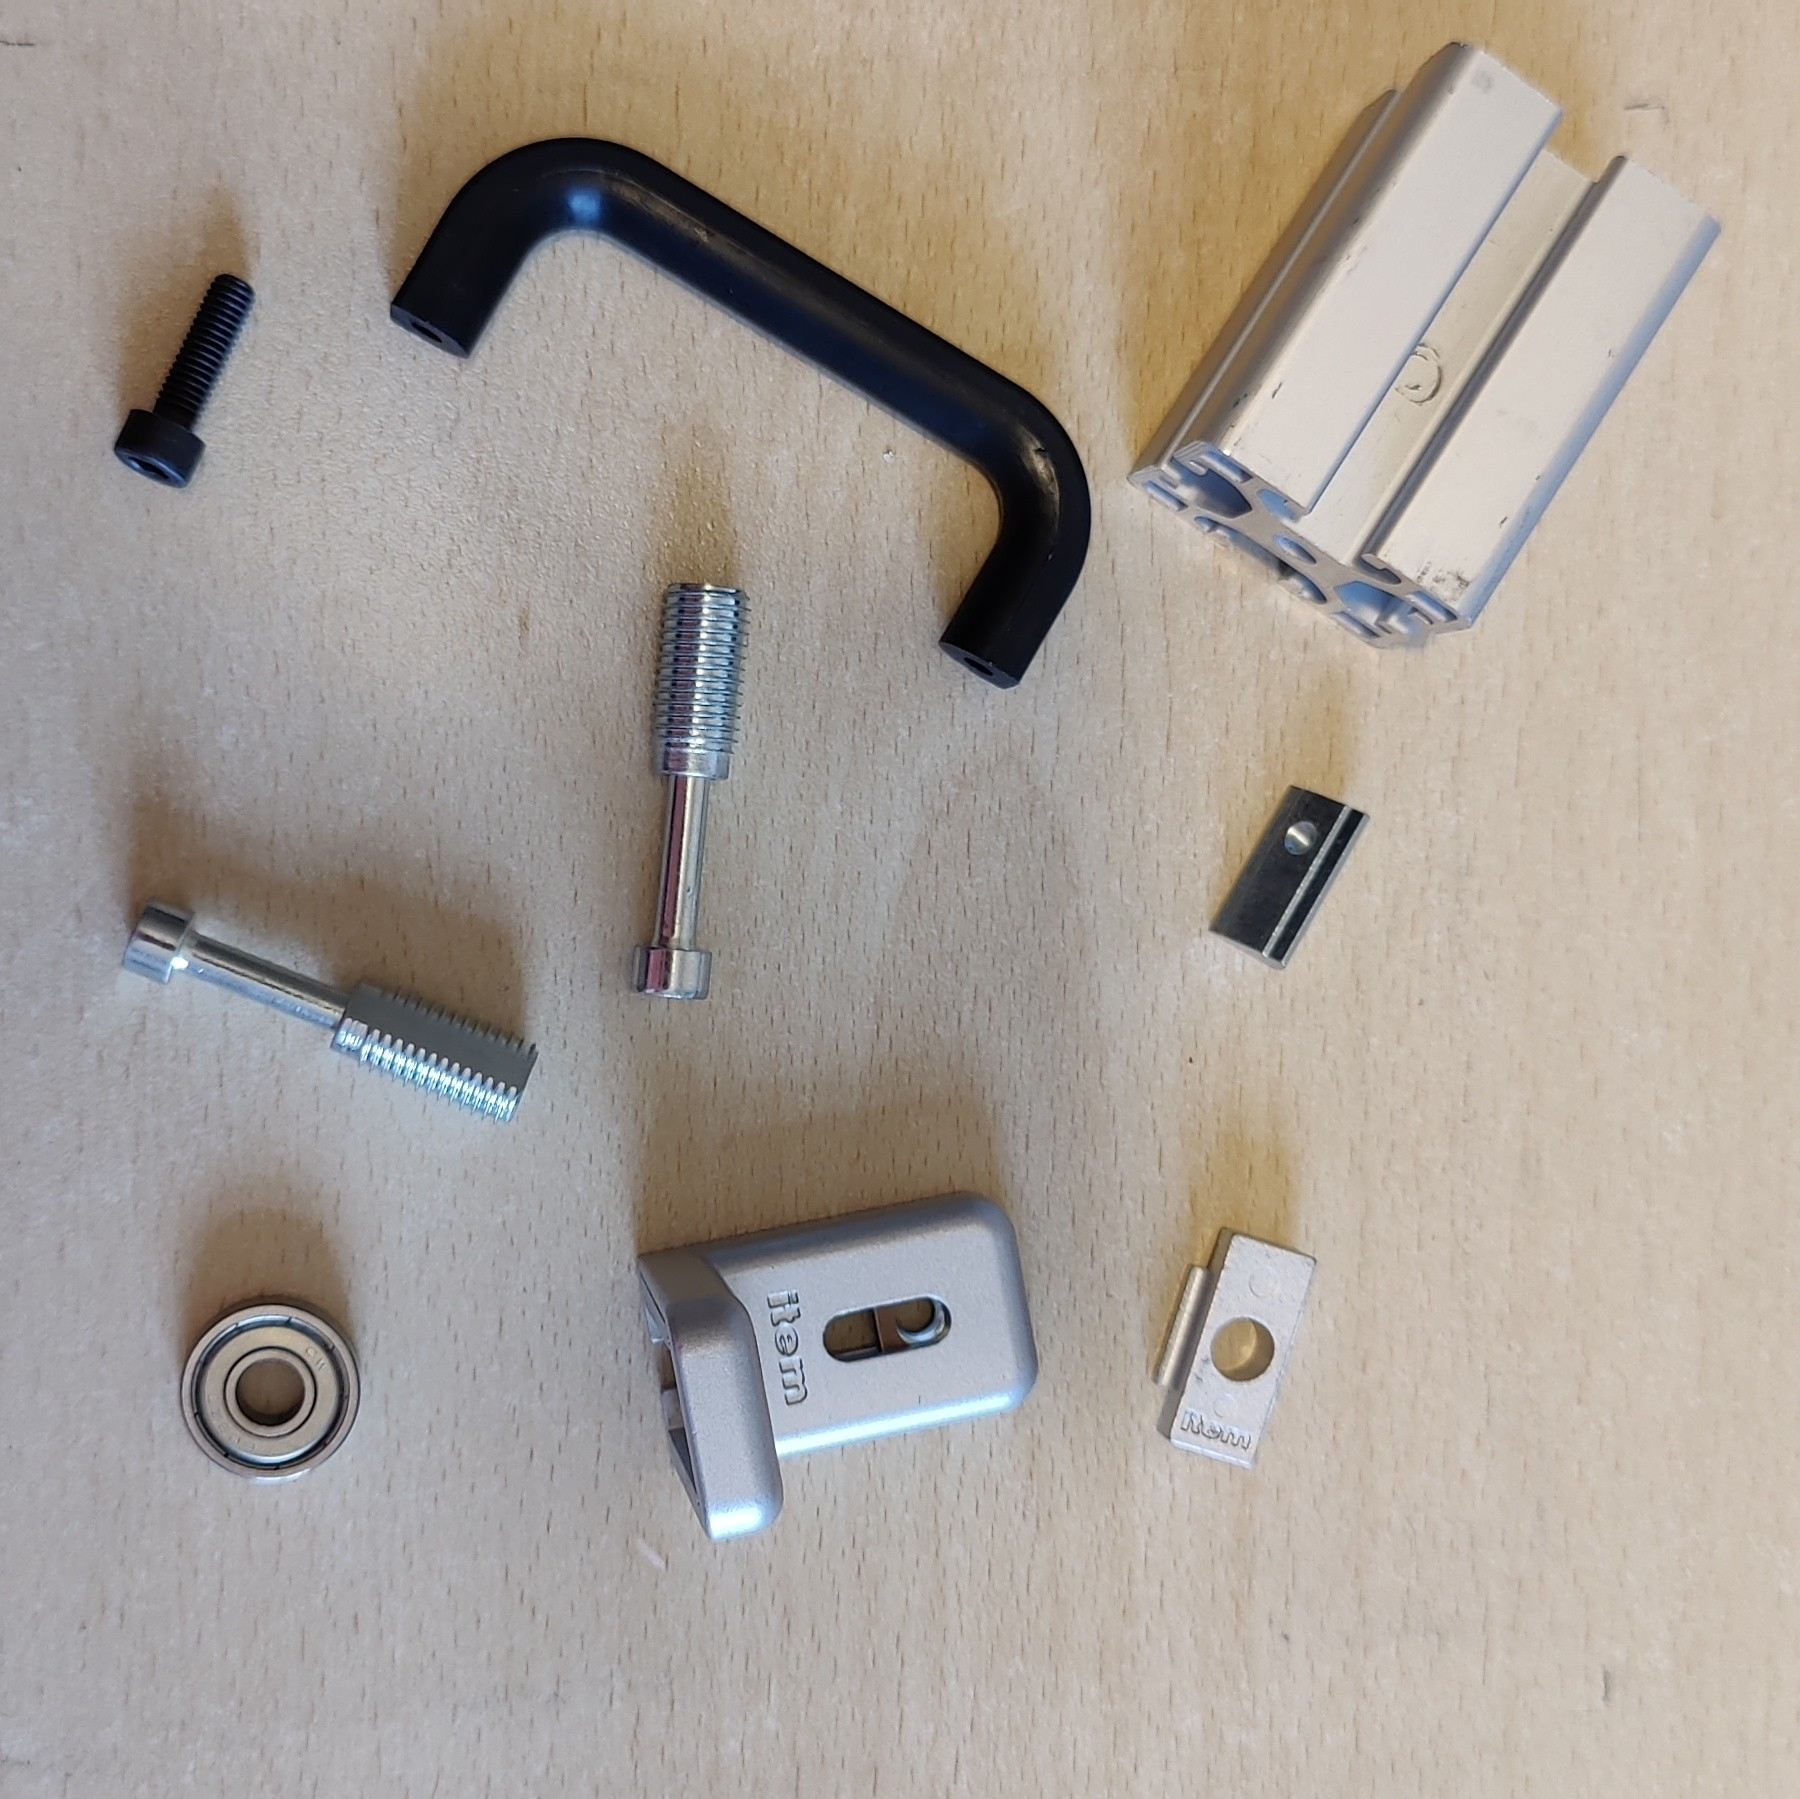Aluminium Extension: (1126, 38, 1724, 652)
Ball Bearing: (180, 1295, 362, 1484)
Multiwinkel: (637, 1188, 1041, 1542)
Pull Handle: (389, 133, 1094, 694)
Shoulder Socket Head Cap Screw: (120, 896, 542, 1127), (627, 582, 753, 1003)
Socket Head Cap Screw: (109, 267, 255, 493)
T Nut Square: (1151, 1222, 1321, 1474)
T Spring Nut: (1209, 783, 1373, 972)
